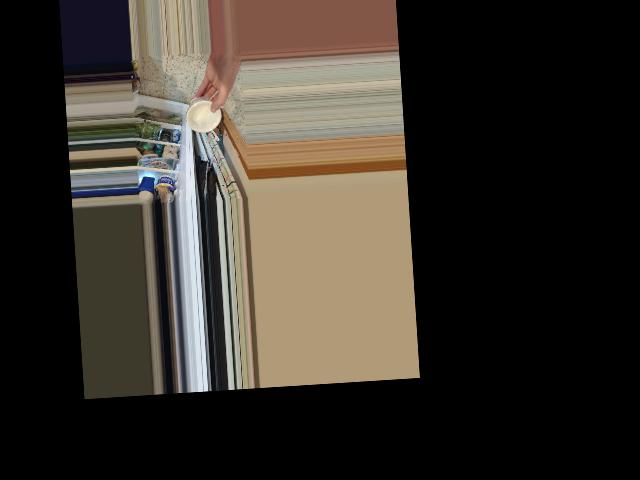cotage: (185, 94, 218, 134)
